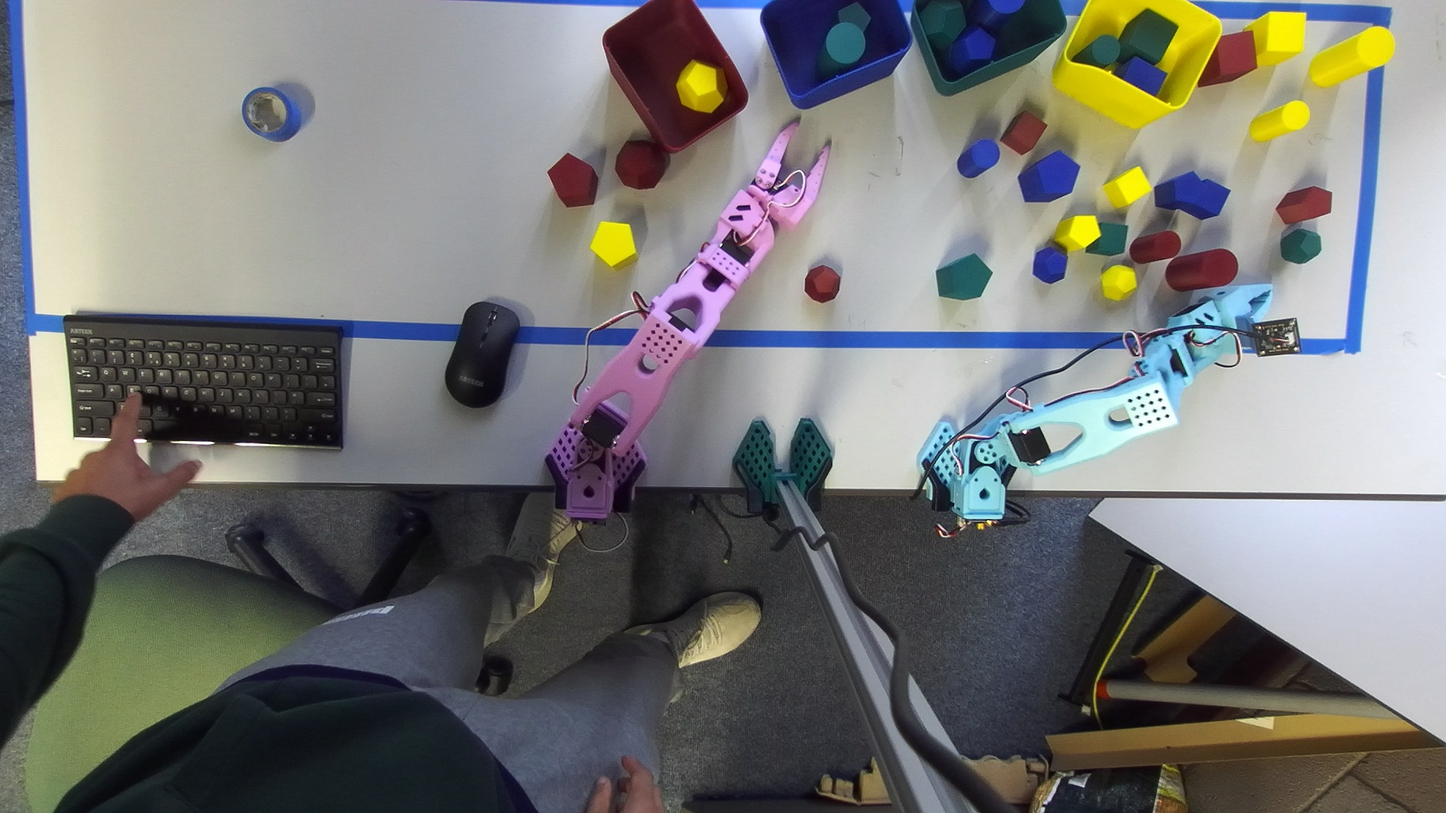bin: (603, 0, 748, 152), (1052, 0, 1221, 128), (760, 0, 911, 108), (911, 0, 1066, 94)
cube: (1197, 30, 1257, 86), (1119, 8, 1176, 65), (1245, 11, 1305, 65), (1103, 166, 1152, 208), (1178, 179, 1229, 219), (1000, 110, 1046, 154), (1117, 57, 1166, 95), (1084, 222, 1127, 255)
cylinder: (1309, 26, 1394, 87), (1165, 248, 1238, 291), (819, 22, 865, 78), (1249, 101, 1309, 141), (969, 0, 1024, 32), (1129, 230, 1181, 263), (957, 139, 999, 178), (1072, 35, 1120, 68)
dodecahedron: (676, 59, 727, 113), (615, 140, 670, 189), (918, 0, 966, 50), (947, 27, 995, 76), (1280, 227, 1321, 263), (804, 264, 840, 303), (1101, 265, 1136, 300), (1033, 246, 1066, 283)
gripper: (746, 119, 831, 229), (1206, 284, 1271, 324)
hexagonal: (1017, 151, 1079, 202), (548, 152, 598, 207), (936, 254, 992, 300), (1276, 186, 1332, 224), (590, 222, 636, 266), (1054, 215, 1100, 251), (1154, 176, 1183, 208), (837, 3, 870, 31)
